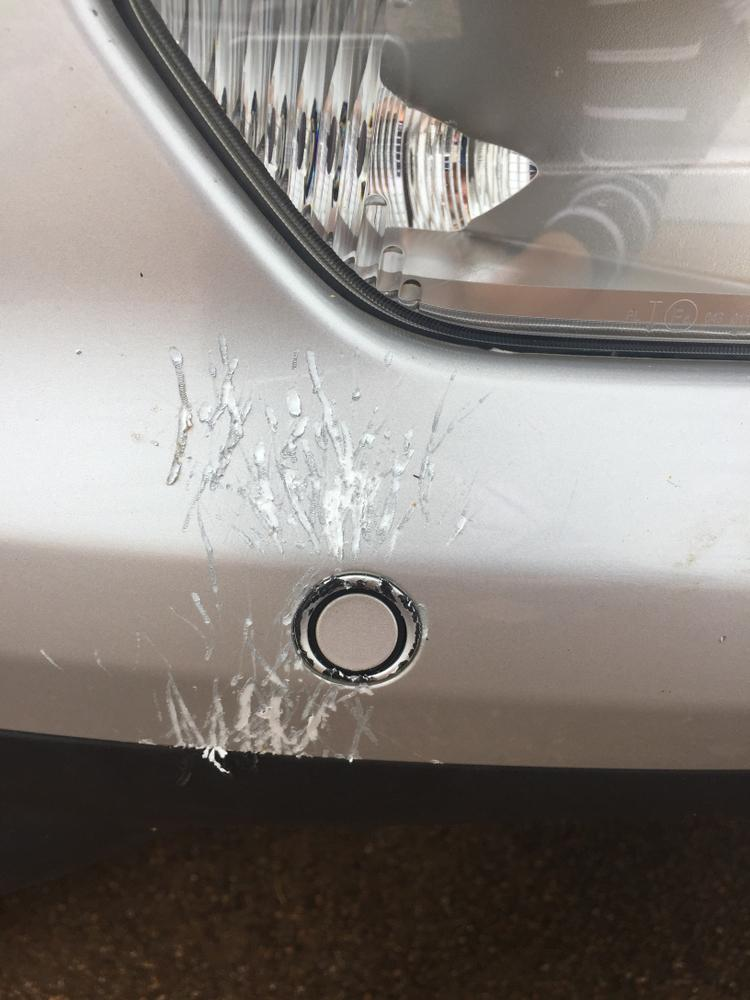scratch: (128, 339, 477, 759)
